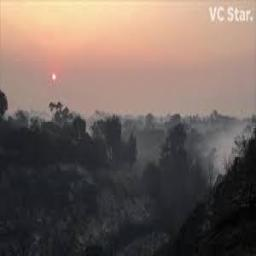Low smoke: (194, 117, 250, 184)
